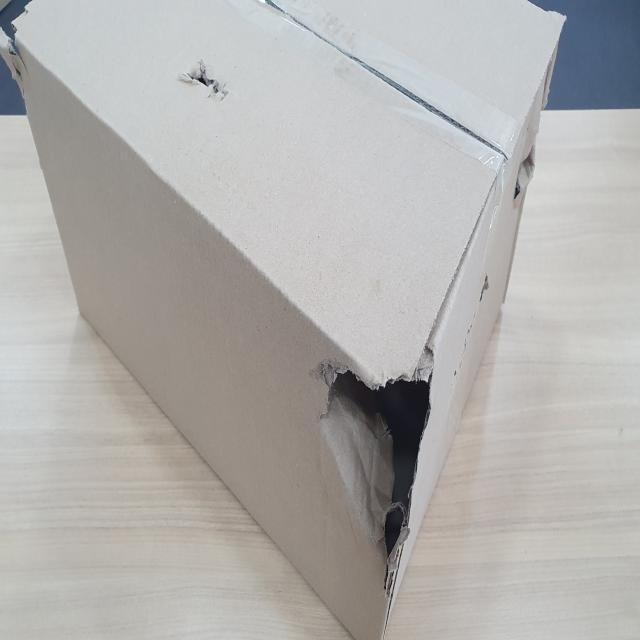hole: (310, 310, 444, 602), (181, 45, 232, 131), (468, 262, 499, 306), (516, 134, 534, 208)
